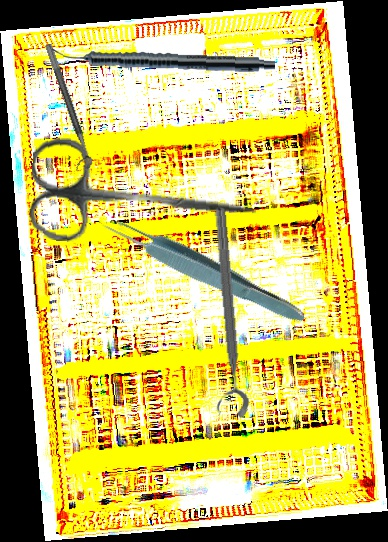Fixation Ring: (197, 205, 251, 421), (34, 43, 96, 174)
Handpiece: (51, 45, 276, 74)
Iris Scissors: (25, 135, 262, 258)
Tissue Forceps: (98, 207, 311, 331)
